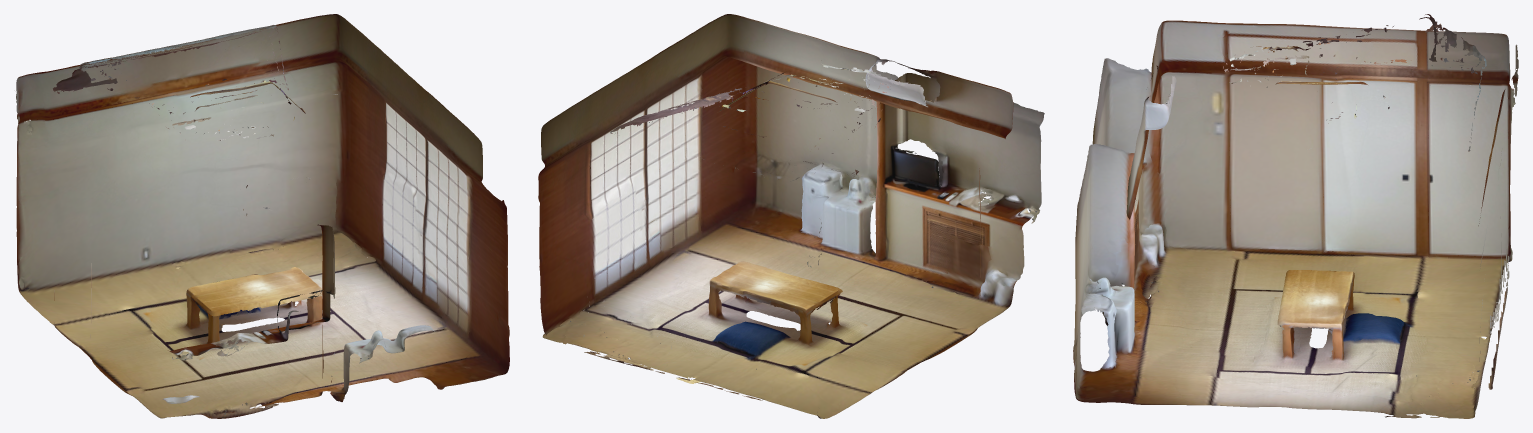
File: hayama_washitsu_raw_scan.glb
The picture shows the model from 3 angles, left to right: view 1: azimuth 30°, elevation 25°; view 2: azimuth 150°, elevation 25°; view 3: azimuth 270°, elevation 25°; orthographic projection. The views are drawn at different scales.
Parts seen in each view (by area): view 1: Object_2, Object_3; view 2: Object_2, Object_3; view 3: Object_2, Object_3.
Part boxes in pixels (x1,y1,x2,y2): Object_2: [16, 14, 509, 418]; Object_3: [16, 34, 433, 407]; Object_2: [538, 14, 1044, 418]; Object_3: [572, 56, 961, 411]; Object_2: [1073, 14, 1518, 418]; Object_3: [1079, 30, 1508, 377].
Size of the model in its own units: 3.87 by 2.72 by 4.19.
Materials: 1 (1 with a texture image).
